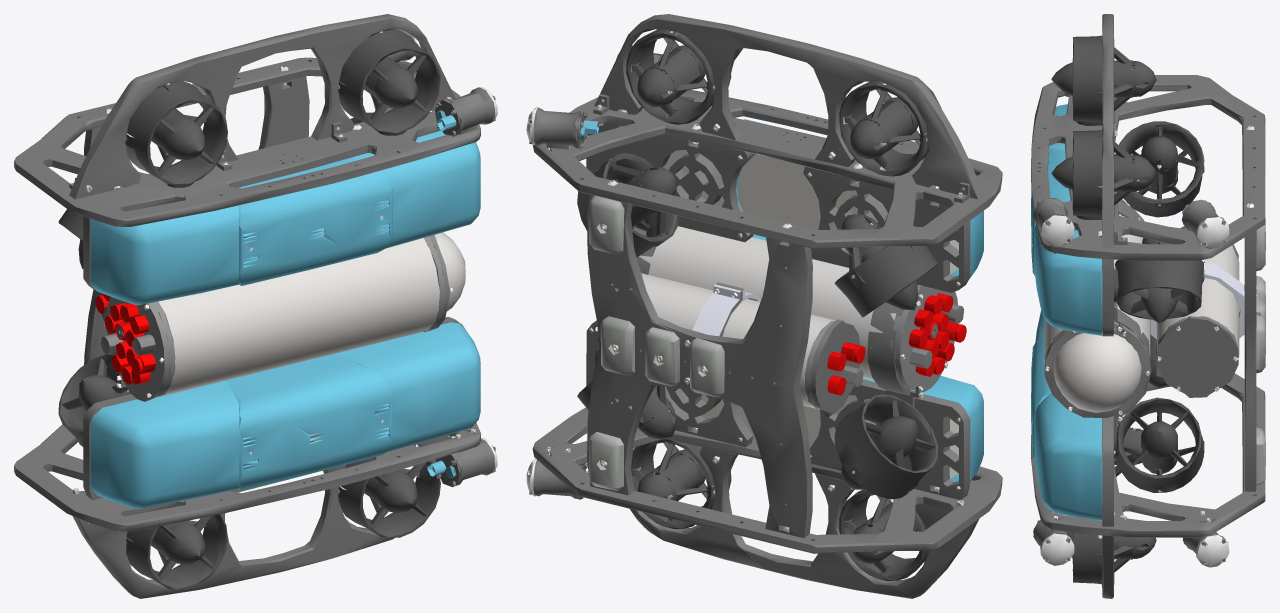
Rendered from bluerov2_centrado.glb.
3 views of the same model, side by side, from view 1: azimuth 30°, elevation 25°; view 2: azimuth 150°, elevation 25°; view 3: azimuth 270°, elevation 25° (orthographic). The views are drawn at different scales.
Visible parts, largest first — view 1: BROV2-HEAVY-45.001; view 2: BROV2-HEAVY-45.001; view 3: BROV2-HEAVY-45.001.
Boxes of the visible parts, x1,y1,x2,y2 form: BROV2-HEAVY-45.001: (14, 14, 497, 598); BROV2-HEAVY-45.001: (526, 14, 1002, 598); BROV2-HEAVY-45.001: (1031, 14, 1265, 598).
Size of the model in its own units: 17.97 by 22.64 by 9.95.
